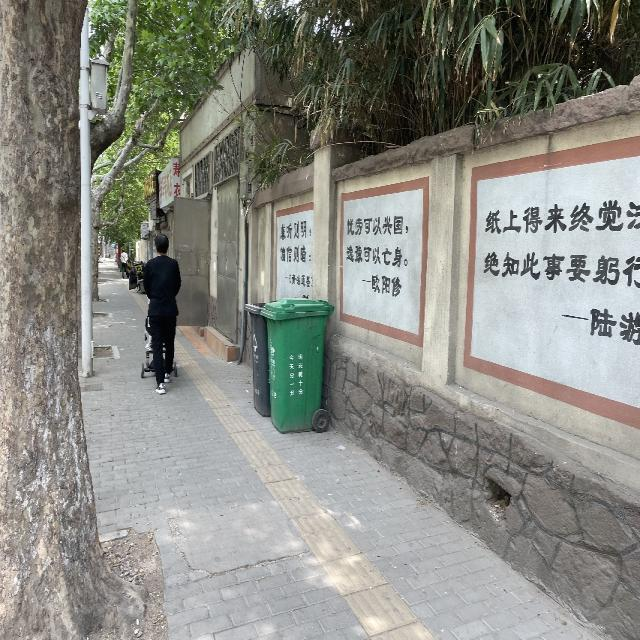garbage_bin: (260, 298, 333, 433), (245, 301, 270, 416)
